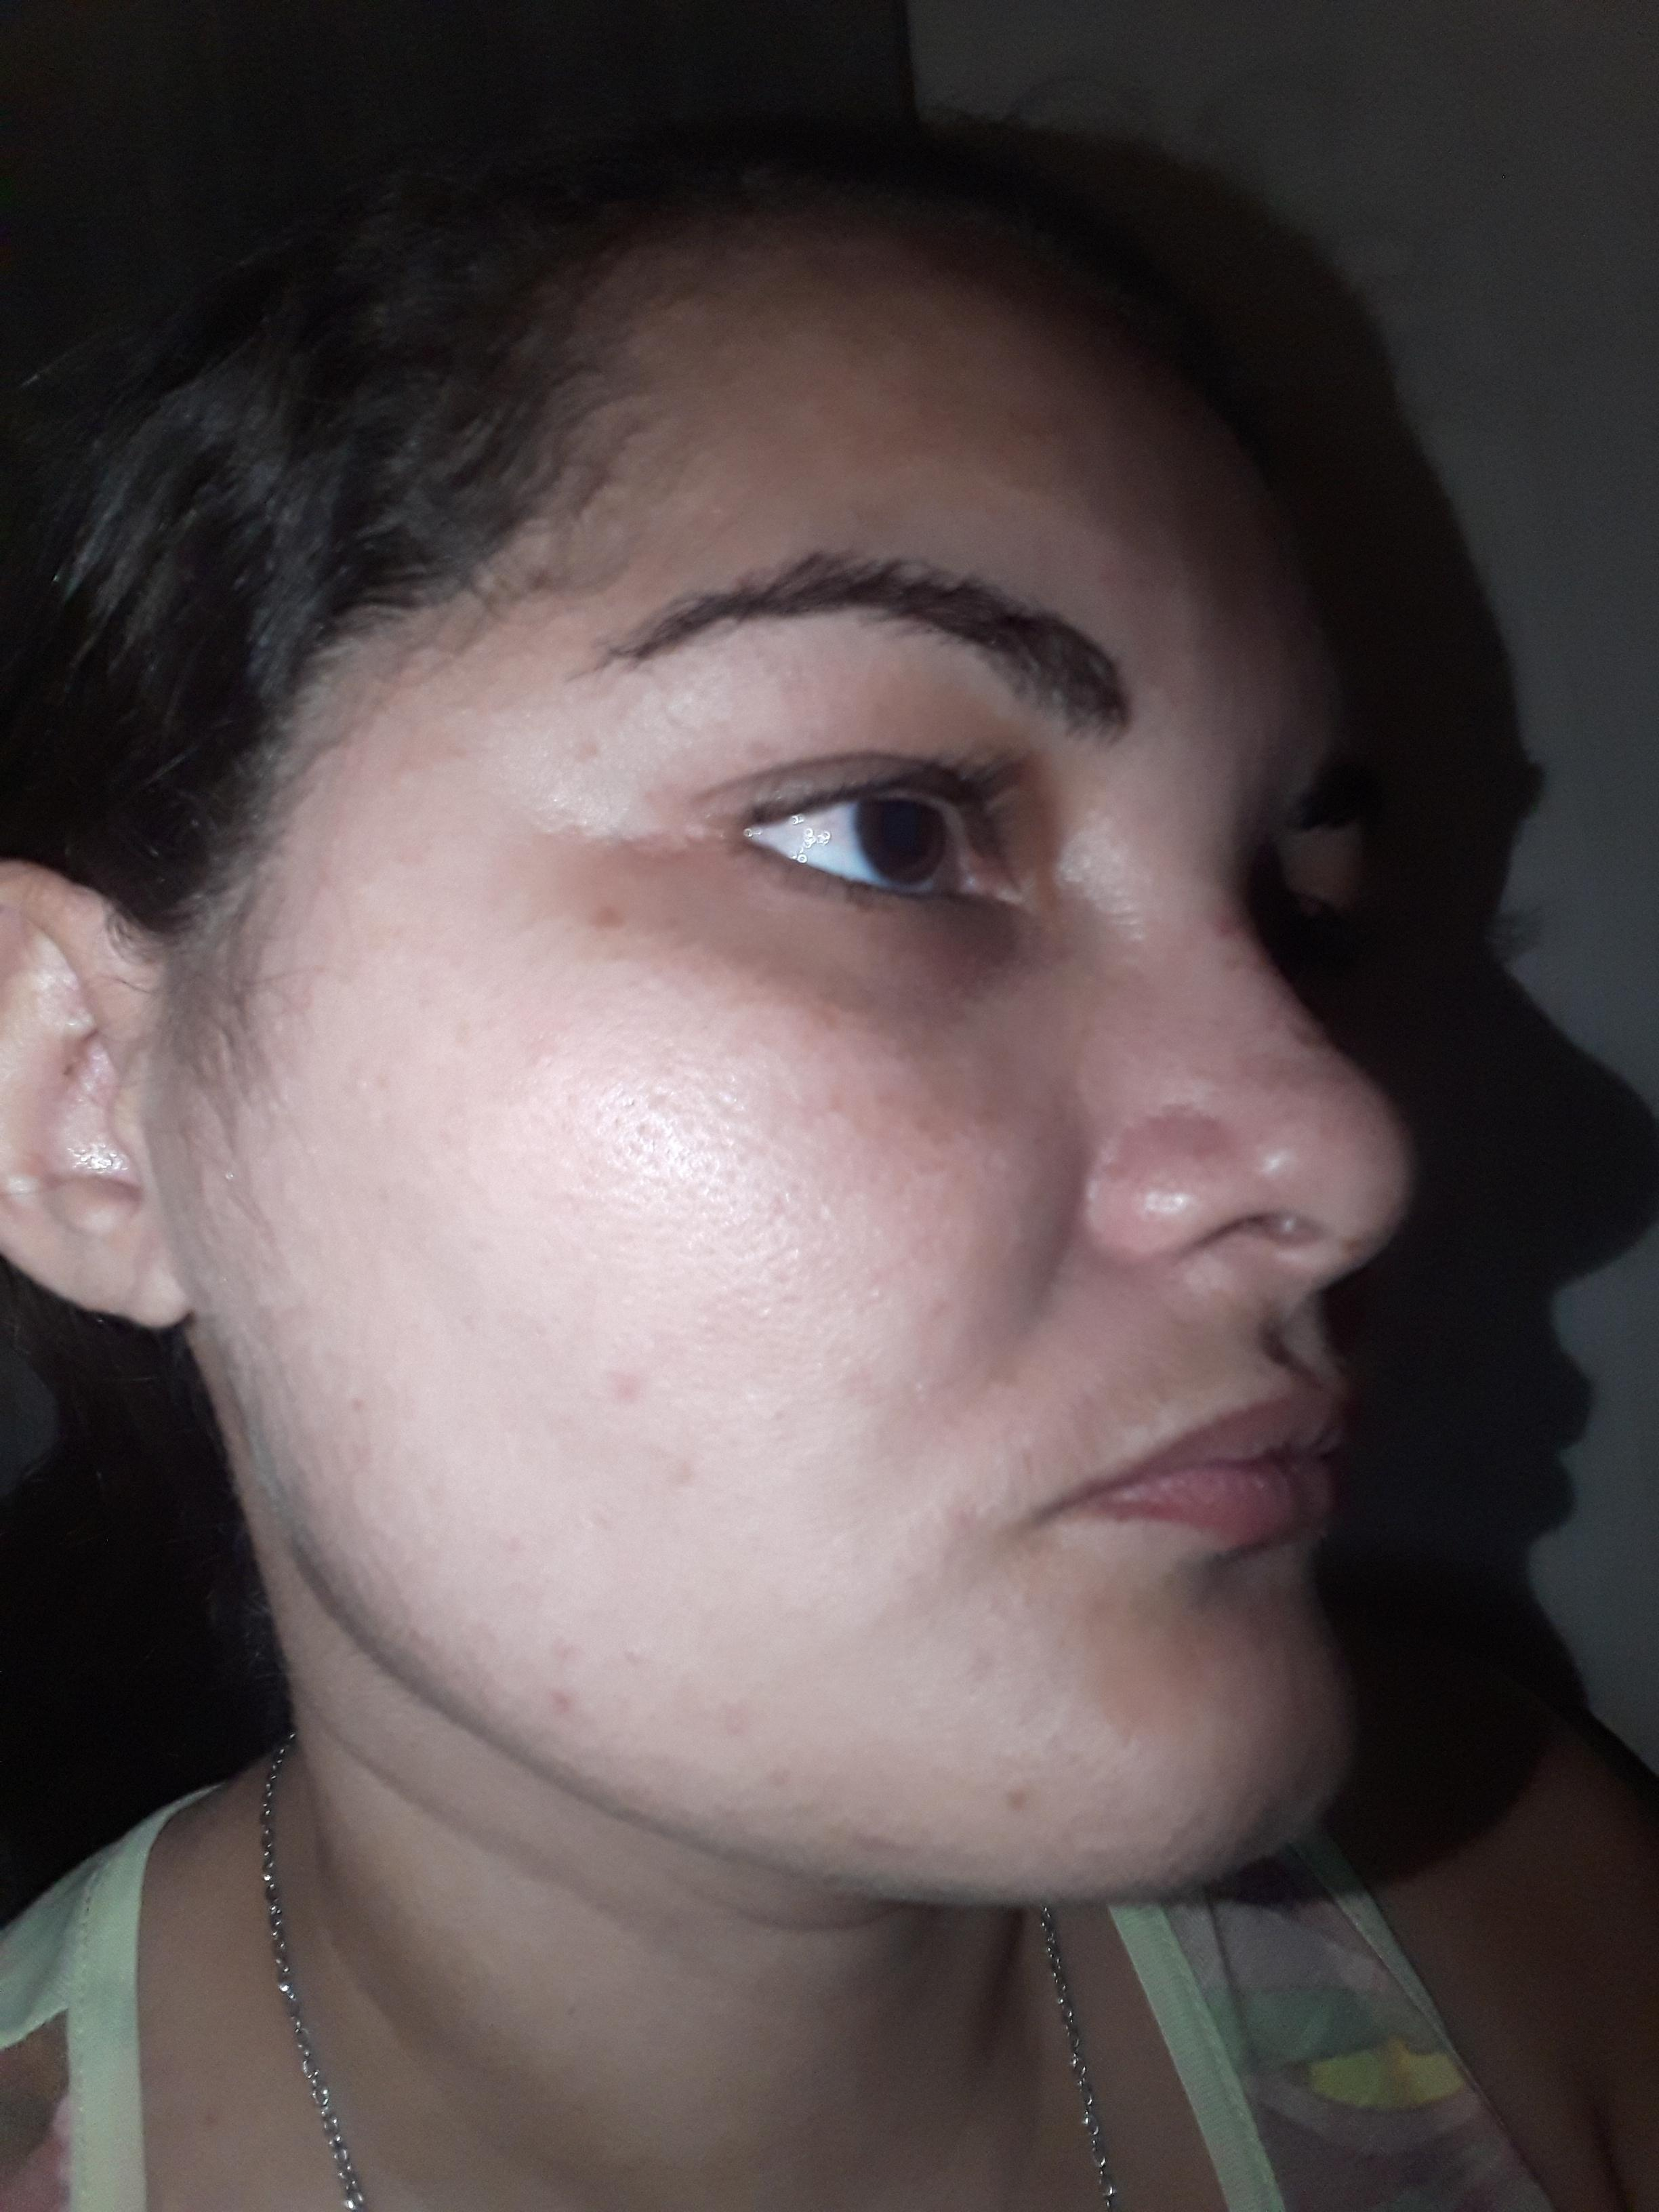Acne: (992, 1761, 1042, 1820), (950, 1635, 997, 1695), (530, 1679, 594, 1721), (601, 1364, 655, 1413), (660, 1453, 706, 1507), (540, 1623, 591, 1665), (563, 730, 606, 775), (1216, 906, 1251, 948), (593, 888, 629, 927)
Englarged-Pores: (575, 1064, 824, 1287)
